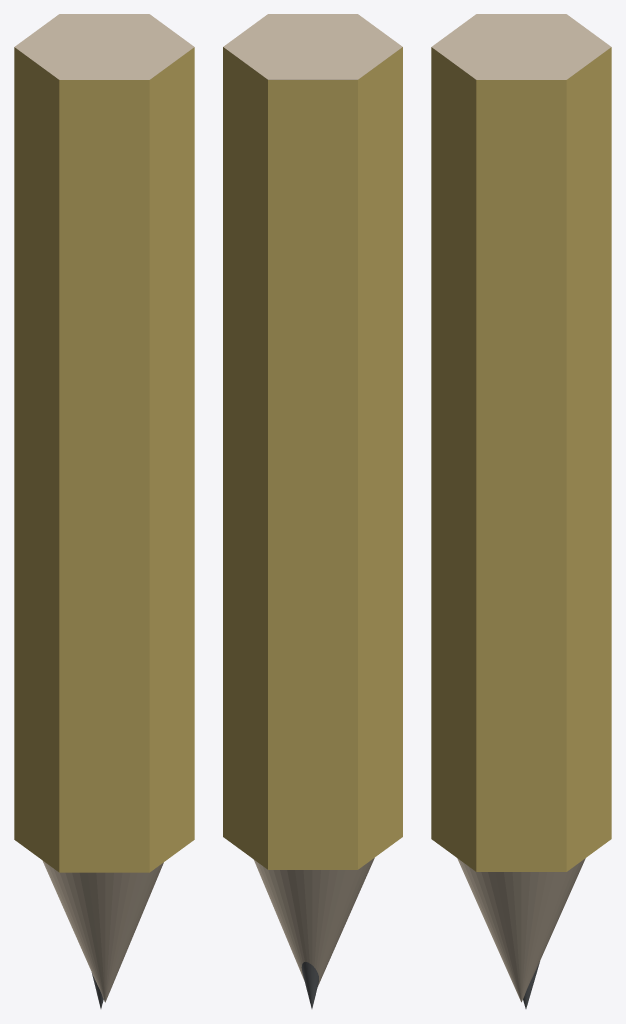
The model's file is lapiz.glb.
3 renders of one model, left to right at view 1: azimuth 30°, elevation 25°; view 2: azimuth 150°, elevation 25°; view 3: azimuth 270°, elevation 25°, orthographic.
Visible parts, largest first — view 1: Mesh_Mesh_head_geo.001_lambert2SG.001; view 2: Mesh_Mesh_head_geo.001_lambert2SG.001; view 3: Mesh_Mesh_head_geo.001_lambert2SG.001.
Part boxes in pixels (x1,y1,x2,y2): Mesh_Mesh_head_geo.001_lambert2SG.001: (14, 14, 194, 1008); Mesh_Mesh_head_geo.001_lambert2SG.001: (223, 14, 402, 1008); Mesh_Mesh_head_geo.001_lambert2SG.001: (431, 14, 611, 1008).
Bounding box in the file's own units: 0.0173 × 0.118 × 0.02.
